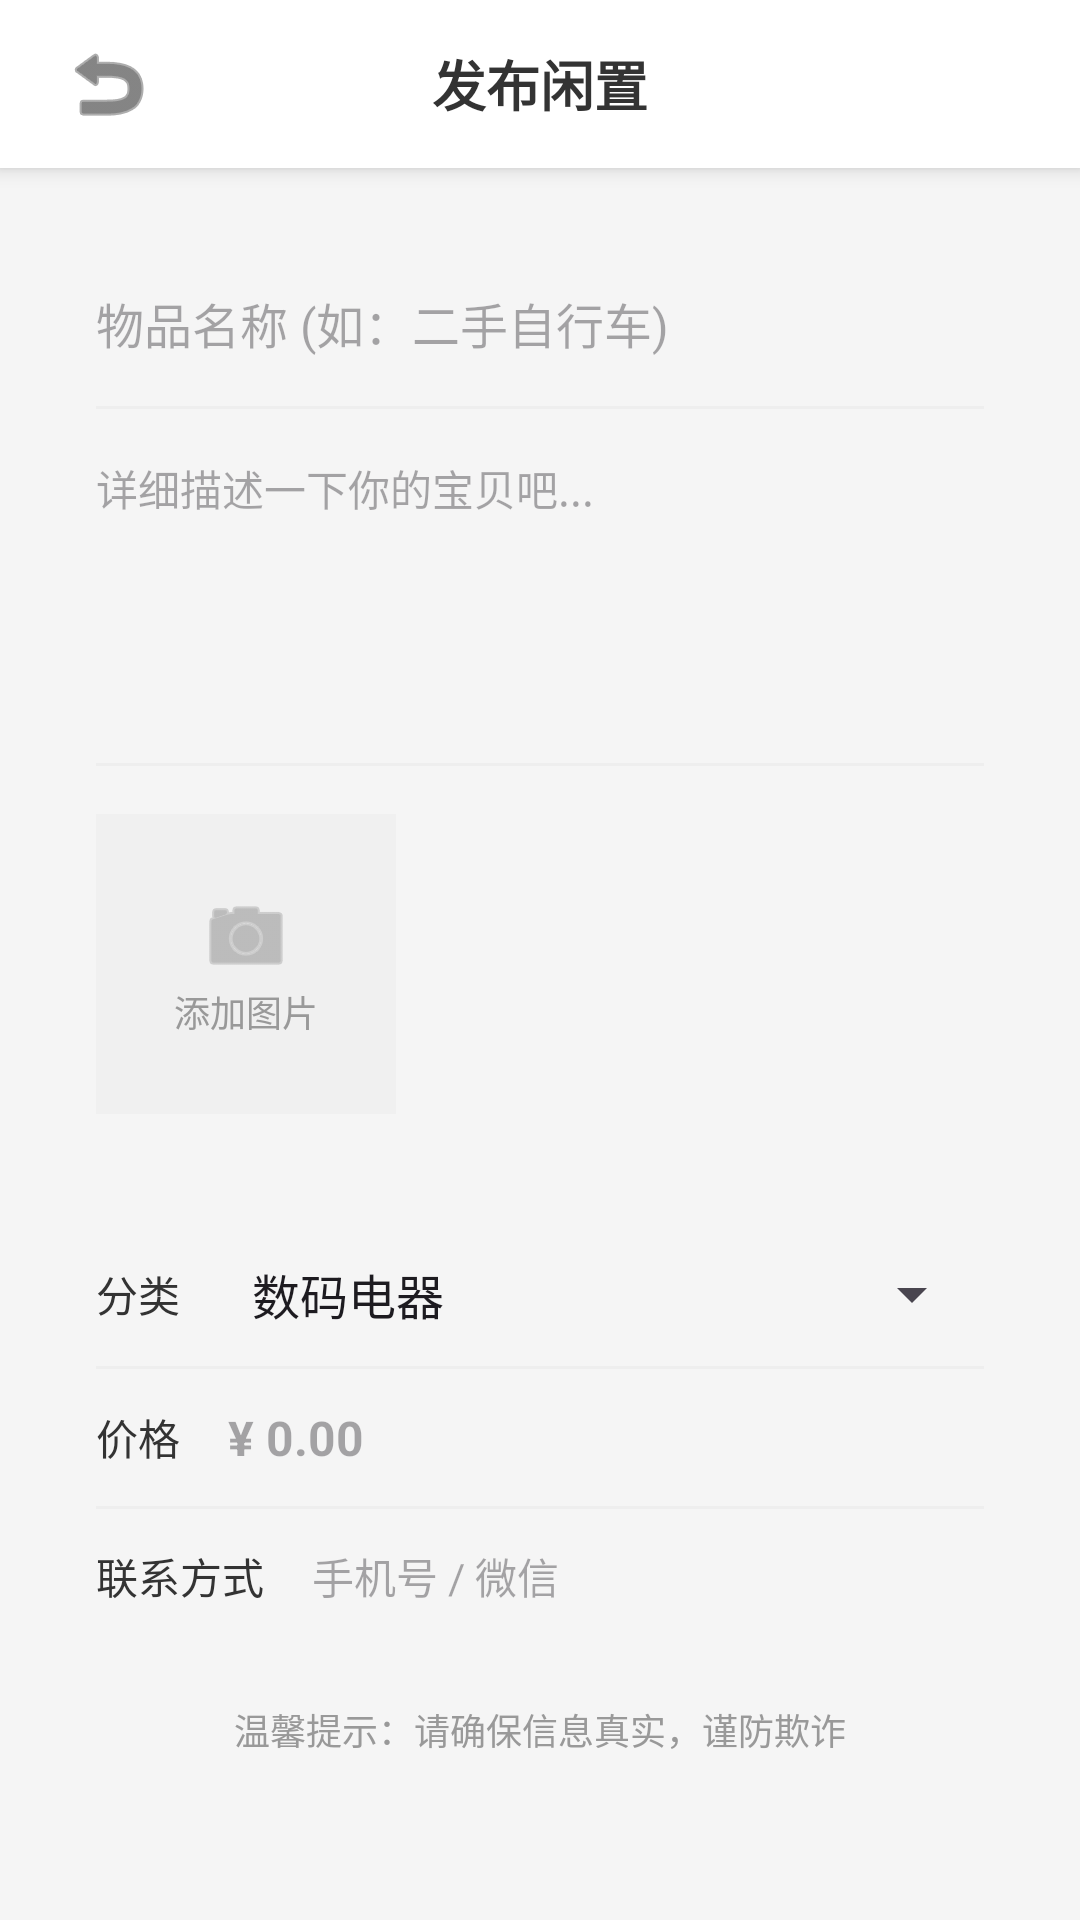

Where to tap for icons on this 1080x1920 app screen, as [x,y]:
camera: [246,935]
revert: [109,84]
